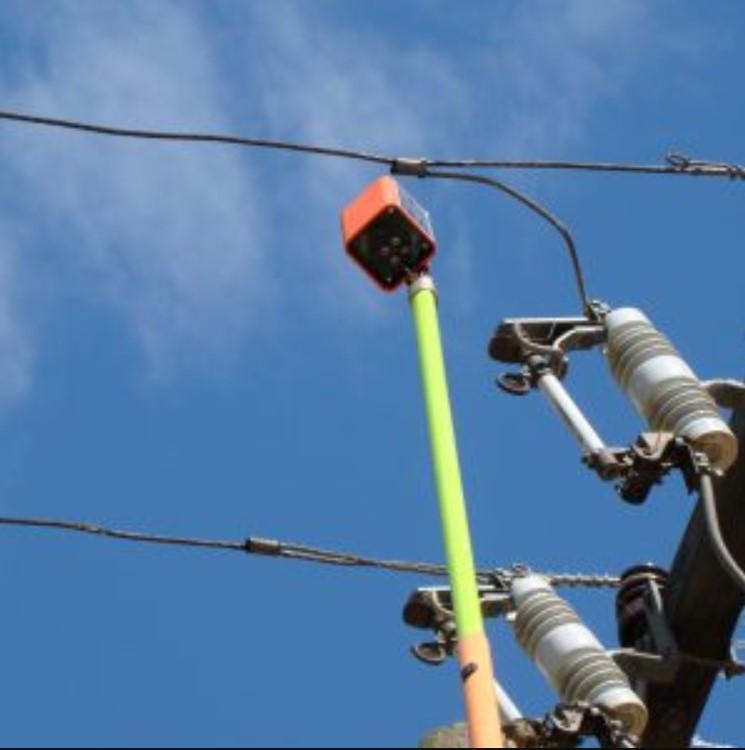Detector_Tensao_Contato: (338, 171, 441, 299)
Vara_Manobra: (403, 276, 507, 750)
